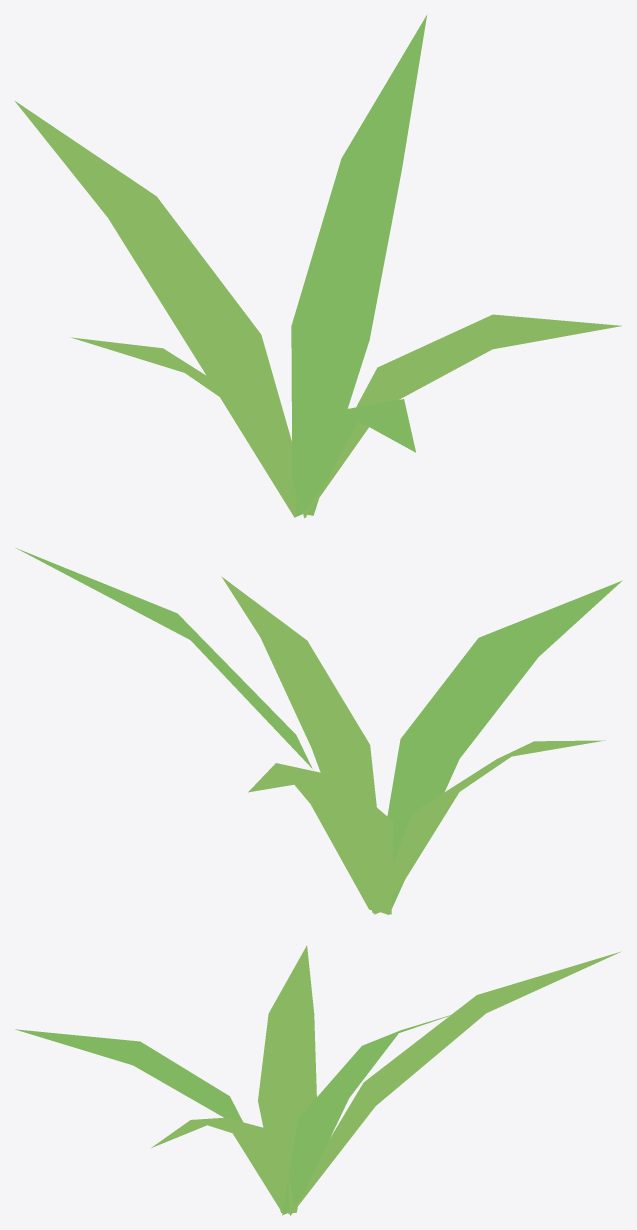
File: Plant_e_OneS_05.fbx
The picture shows the model from 3 angles, top to bottom: view 1: azimuth 30°, elevation 25°; view 2: azimuth 150°, elevation 25°; view 3: azimuth 270°, elevation 25°; orthographic projection. The views are drawn at different scales.
Visible parts, largest first — view 1: Plant_e_OneS_05; view 2: Plant_e_OneS_05; view 3: Plant_e_OneS_05.
Boxes of the visible parts, x1=… form: Plant_e_OneS_05: x1=15, y1=14, x2=621, y2=518; Plant_e_OneS_05: x1=16, y1=548, x2=622, y2=914; Plant_e_OneS_05: x1=15, y1=945, x2=621, y2=1215.
Bounding box in the file's own units: 0.604 × 0.4612 × 0.8628.
